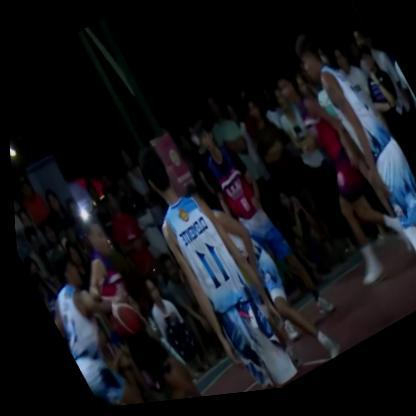basketball: (99, 290, 144, 346)
